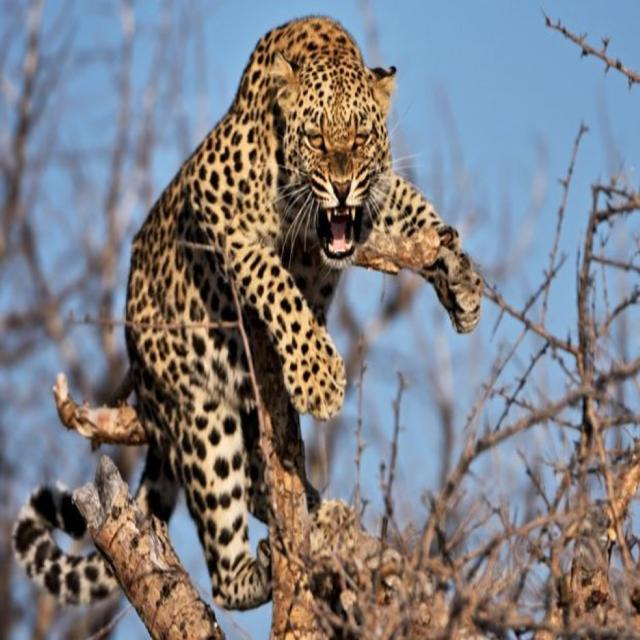Leopard: (19, 21, 478, 616)
